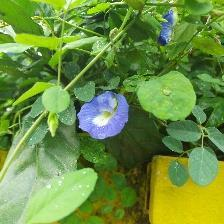shankupushpam: (79, 91, 133, 140)
